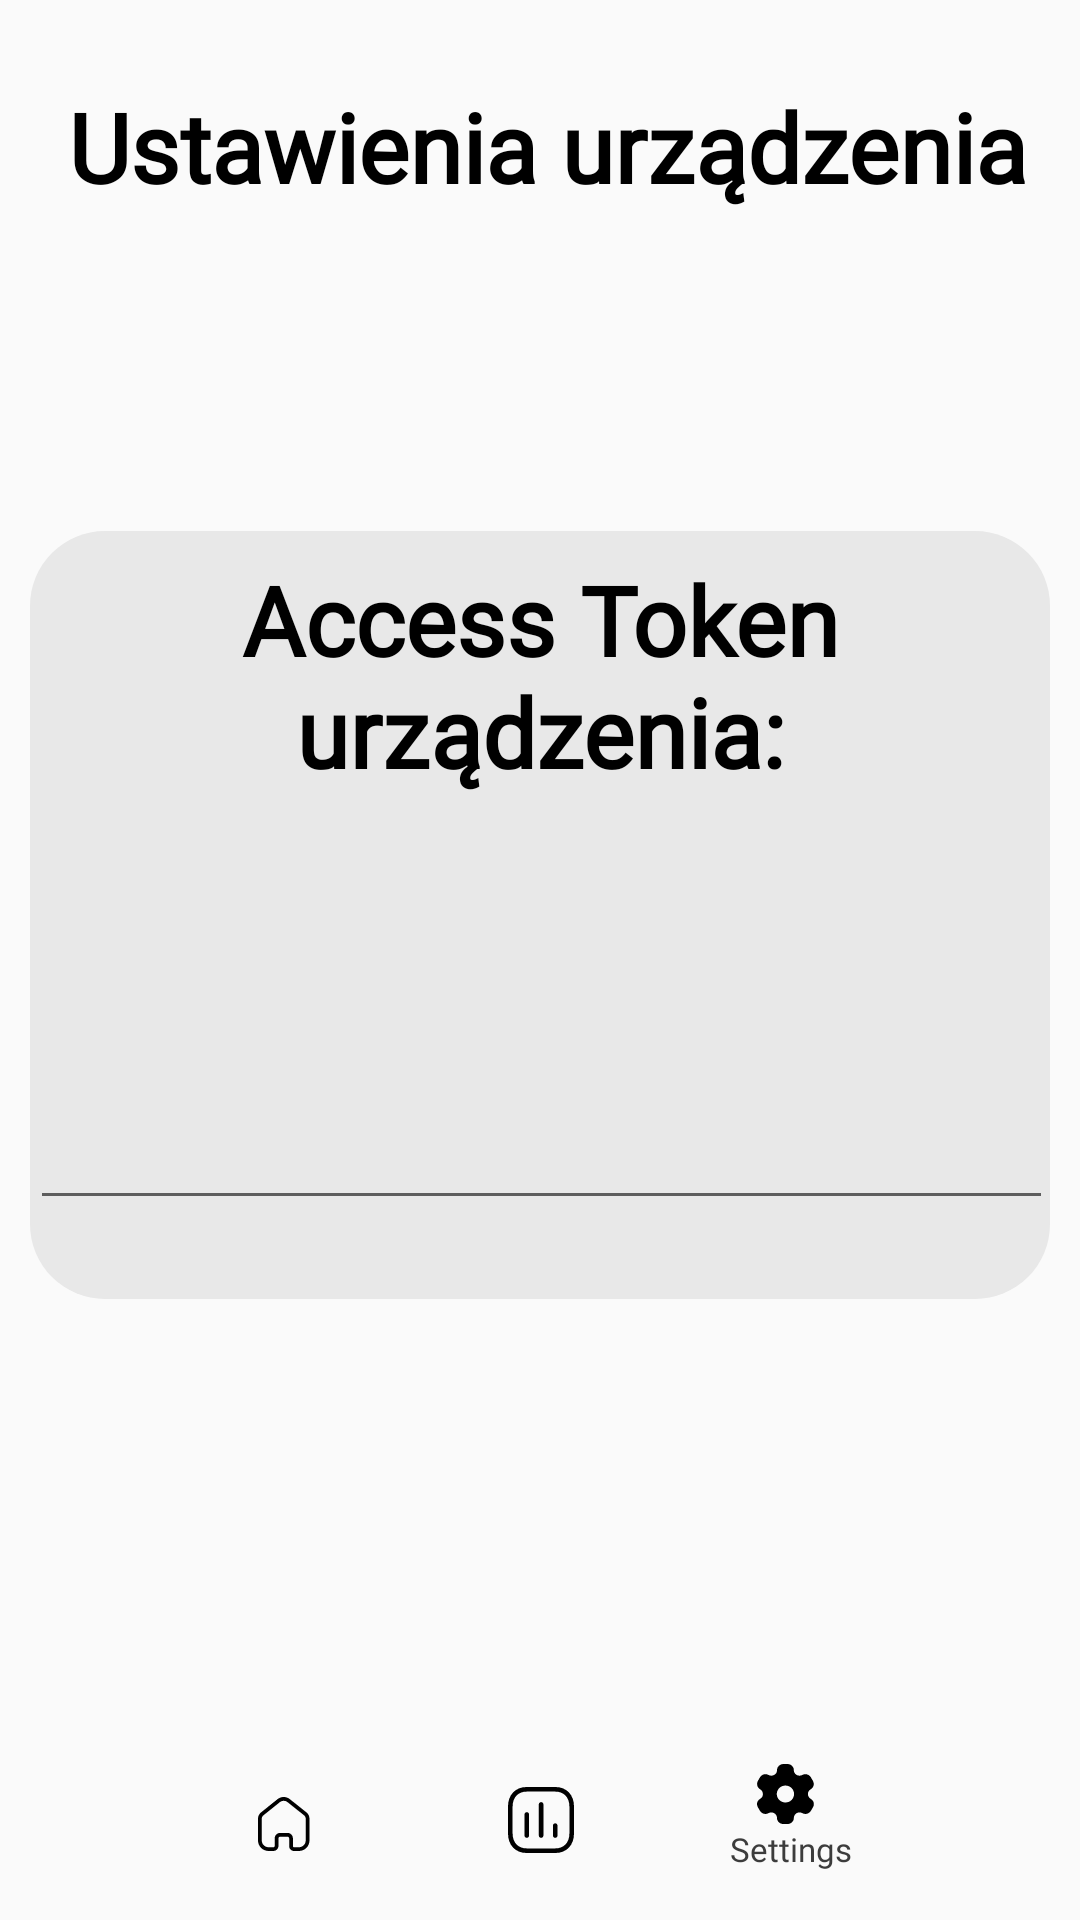

Screen size 1080px×1920px. Icon name, then its box in pixels as {"left": x1, "top": y1, "right": x2, "bottom": y2}:
home: {"left": 258, "top": 1797, "right": 310, "bottom": 1851}
